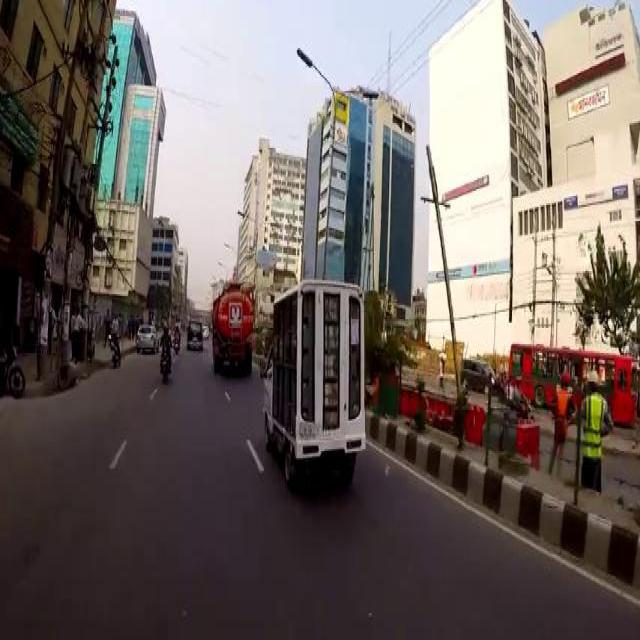10: (507, 393, 535, 422), (108, 333, 122, 364), (160, 348, 170, 378), (172, 334, 178, 349)
11: (261, 278, 365, 469)
19: (185, 317, 202, 344)
5: (135, 321, 159, 348)
9: (458, 356, 496, 391)
Truck: (508, 340, 636, 424)
